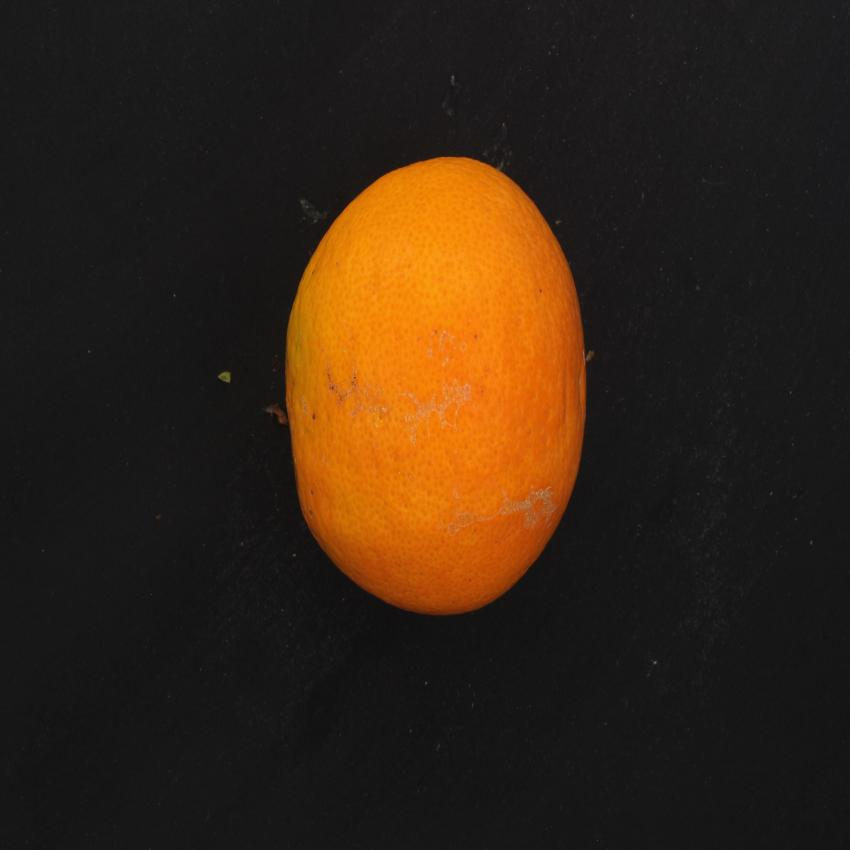Buen estado: (265, 144, 594, 639)
